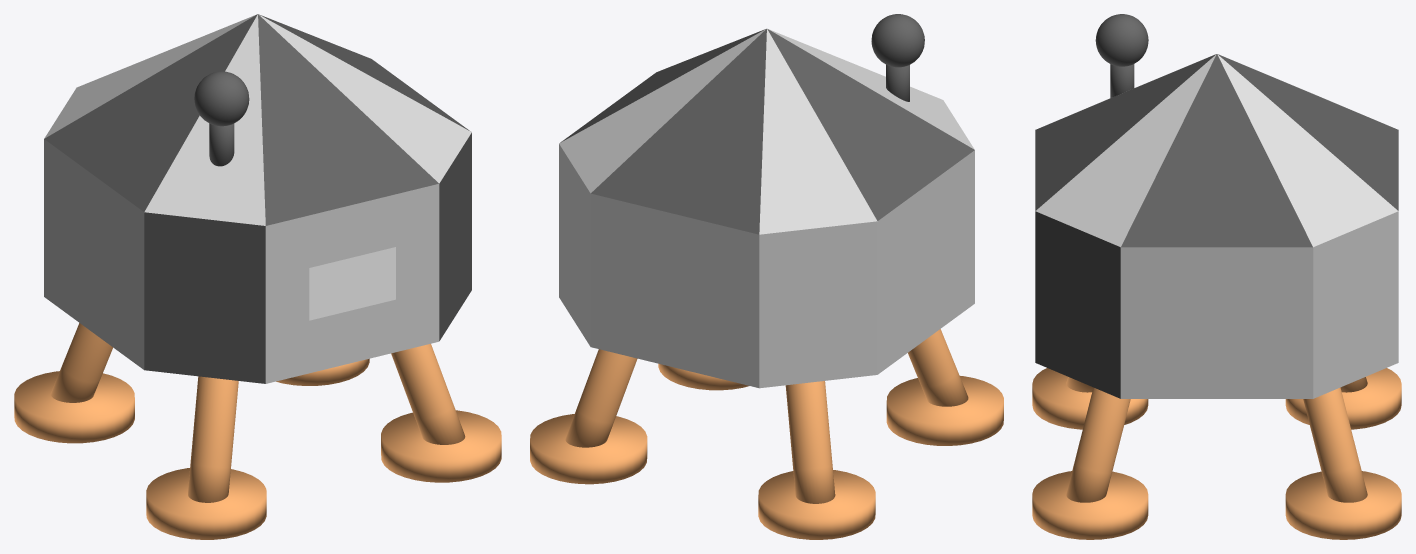
File: module.glb
3 renders of one model, left to right at view 1: azimuth 30°, elevation 25°; view 2: azimuth 150°, elevation 25°; view 3: azimuth 270°, elevation 25°, orthographic. The views are drawn at different scales.
Visible parts, largest first — view 1: Cylinder; view 2: Cylinder; view 3: Cylinder.
Part boxes in pixels (box(x1,y1,x2,y2)): Cylinder: box(14, 14, 501, 539); Cylinder: box(530, 14, 1003, 539); Cylinder: box(1032, 14, 1401, 539).
Size of the model in its own units: 2.07 by 2.47 by 2.03.
